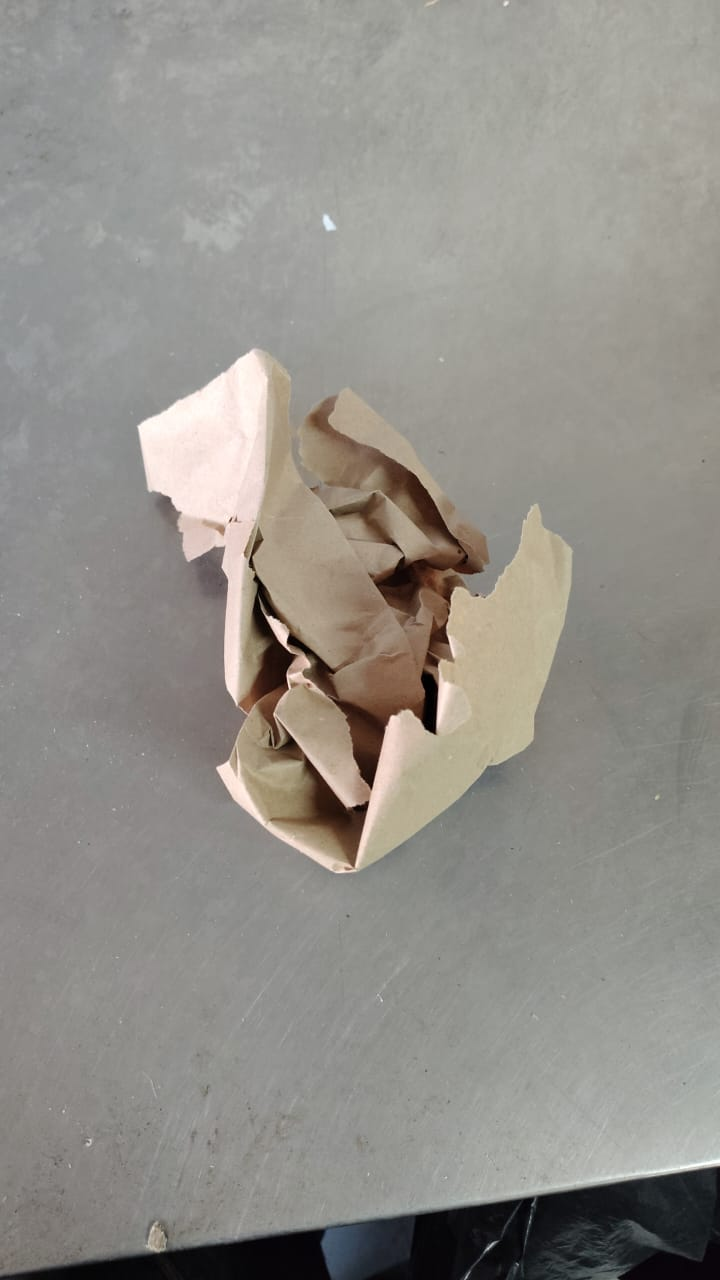Carton: (136, 348, 575, 873)
